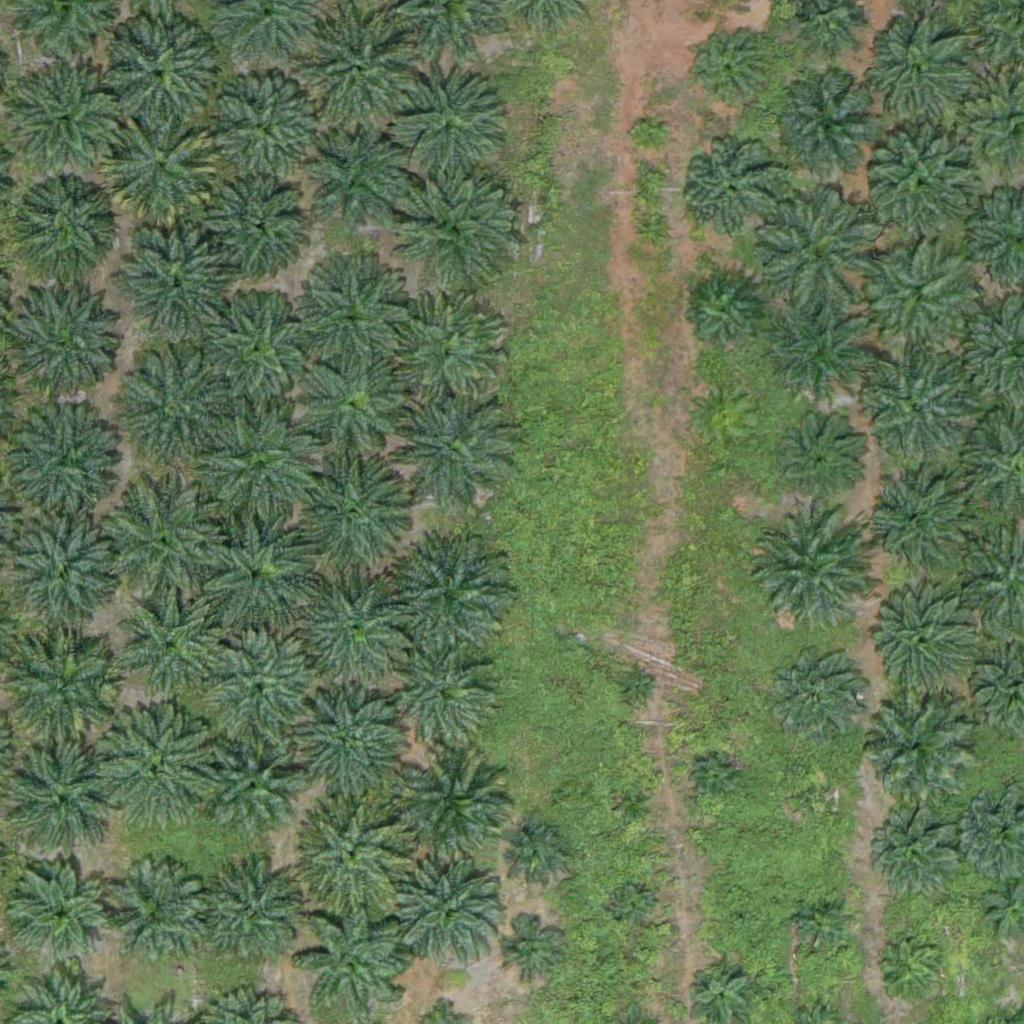Kelapa_Sawit: (391, 64, 516, 190), (390, 160, 515, 286), (292, 12, 417, 138), (94, 16, 219, 142), (752, 186, 877, 312), (291, 252, 416, 378), (198, 288, 323, 414), (385, 290, 510, 416), (3, 280, 128, 406), (6, 398, 131, 524), (2, 624, 127, 750), (1, 740, 126, 866), (99, 480, 224, 606), (106, 348, 231, 474), (111, 220, 236, 346), (195, 411, 320, 537), (189, 514, 314, 640), (197, 636, 322, 762), (284, 687, 409, 813), (292, 573, 417, 699), (287, 452, 412, 578), (389, 390, 514, 516), (385, 535, 510, 661), (396, 755, 521, 881), (745, 506, 870, 632), (101, 113, 226, 238), (3, 55, 128, 180), (2, 511, 127, 636), (97, 707, 222, 832), (867, 129, 980, 242), (857, 13, 970, 126), (298, 130, 411, 243), (210, 70, 323, 183), (856, 689, 969, 802), (298, 902, 411, 1015), (865, 245, 977, 358), (766, 296, 878, 409), (861, 352, 973, 465), (863, 585, 975, 698), (395, 862, 507, 975), (299, 797, 411, 910), (777, 78, 877, 179), (205, 171, 305, 272), (15, 171, 115, 272), (122, 598, 222, 699), (396, 650, 496, 751), (766, 645, 866, 746), (869, 473, 969, 574), (203, 864, 303, 965), (102, 863, 202, 964), (12, 866, 112, 967), (681, 141, 781, 241), (303, 360, 403, 460), (688, 27, 776, 115), (207, 746, 294, 835), (778, 410, 865, 498), (875, 813, 962, 901), (687, 275, 762, 351), (497, 918, 560, 981), (507, 820, 570, 883), (790, 893, 853, 956), (881, 938, 943, 1001), (612, 884, 650, 922), (616, 786, 654, 824), (617, 667, 655, 705), (631, 118, 668, 156), (802, 780, 840, 817), (698, 760, 735, 798), (729, 910, 754, 935)
